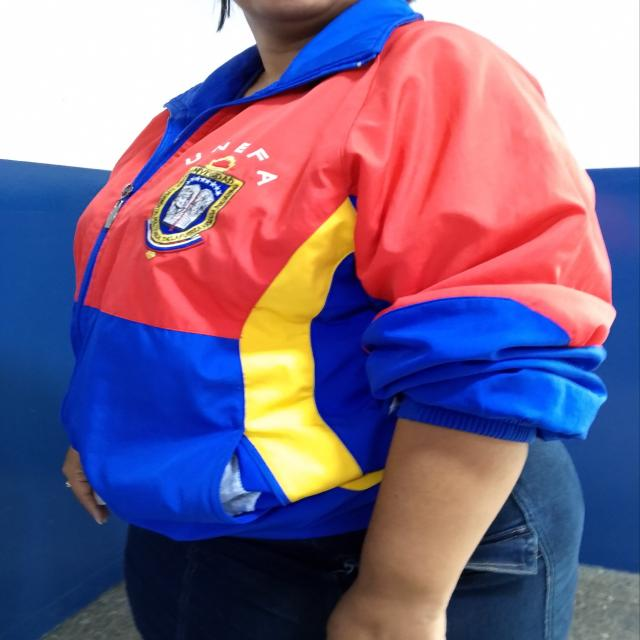chaqueta_unefa: (62, 0, 617, 543)
